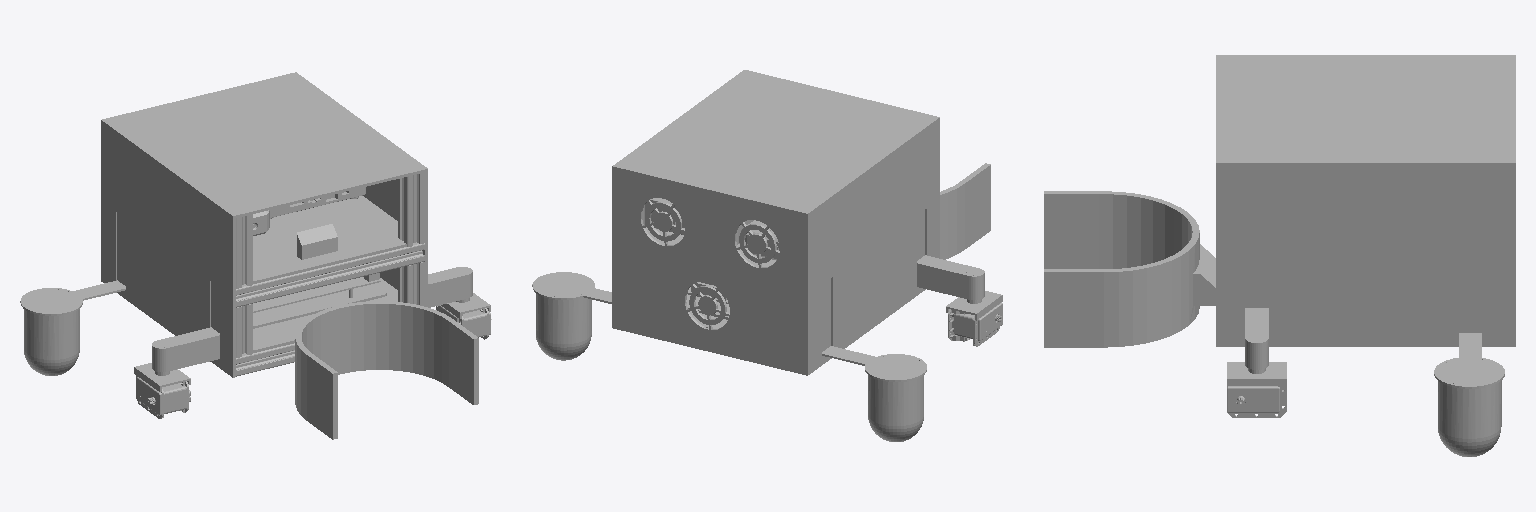
The robot description file, URDF, robot "4wheel_ball":
<?xml version="1.0" encoding="utf-8"?>
<!-- This URDF was automatically created by SolidWorks to URDF Exporter! Originally created by [author] ([email redacted]) 
     Commit Version: 1.5.1-0-g916b5db  Build Version: 1.5.7152.31018
     For more information, please see http://wiki.ros.org/sw_urdf_exporter -->
<robot
  name="4wheel_ball">
  <link
    name="base_link">
    <inertial>
      <origin
        xyz="0.00088514 0.09157 -0.015791"
        rpy="0 0 0" />
      <mass
        value="5.3249" />
      <inertia
        ixx="0.021938"
        ixy="-4.0175E-06"
        ixz="-1.4798E-06"
        iyy="0.023203"
        iyz="-8.0652E-06"
        izz="0.014905" />
    </inertial>
    <visual>
      <origin
        xyz="0 0 0"
        rpy="0 0 0" />
      <geometry>
        <mesh
          filename="package://4wheel_ball/meshes/base_link.STL" />
      </geometry>
      <material
        name="">
        <color
          rgba="0.75294 0.75294 0.75294 1" />
      </material>
    </visual>
    <collision>
      <origin
        xyz="0 0 0"
        rpy="0 0 0" />
      <geometry>
        <mesh
          filename="package://4wheel_ball/meshes/base_link.STL" />
      </geometry>
    </collision>
  </link>
  <link
    name="right_front_suspension">
    <inertial>
      <origin
        xyz="0.072447 -0.0024231 -0.066755"
        rpy="0 0 0" />
      <mass
        value="0.26437" />
      <inertia
        ixx="3.2075E-05"
        ixy="1.4412E-07"
        ixz="6.3085E-08"
        iyy="6.227E-05"
        iyz="-2.0189E-07"
        izz="6.2852E-05" />
    </inertial>
    <visual>
      <origin
        xyz="0 0 0"
        rpy="0 0 0" />
      <geometry>
        <mesh
          filename="package://4wheel_ball/meshes/right_front_suspension.STL" />
      </geometry>
      <material
        name="">
        <color
          rgba="0.75294 0.75294 0.75294 1" />
      </material>
    </visual>
    <collision>
      <origin
        xyz="0 0 0"
        rpy="0 0 0" />
      <geometry>
        <mesh
          filename="package://4wheel_ball/meshes/right_front_suspension.STL" />
      </geometry>
    </collision>
  </link>
  <joint
    name="right_front_suspension"
    type="fixed">
    <origin
      xyz="-0.21292 -0.11437 -0.037202"
      rpy="2.834 0 0" />
    <parent
      link="base_link" />
    <child
      link="right_front_suspension" />
    <axis
      xyz="0 0 0" />
    <limit
      lower="0"
      upper="0"
      effort="0"
      velocity="0" />
  </joint>
  <link
    name="right_front_wheel">
    <inertial>
      <origin
        xyz="0.014171 0 -1.3878E-17"
        rpy="0 0 0" />
      <mass
        value="0.23877" />
      <inertia
        ixx="0.00029907"
        ixy="-3.9522E-37"
        ixz="6.92E-37"
        iyy="0.00016737"
        iyz="-8.4703E-22"
        izz="0.00016737" />
    </inertial>
    <visual>
      <origin
        xyz="0 0 0"
        rpy="0 0 0" />
      <geometry>
        <mesh
          filename="package://4wheel_ball/meshes/right_front_wheel.STL" />
      </geometry>
      <material
        name="">
        <color
          rgba="1 1 1 1" />
      </material>
    </visual>
    <collision>
      <origin
        xyz="0 0 0"
        rpy="0 0 0" />
      <geometry>
        <mesh
          filename="package://4wheel_ball/meshes/right_front_wheel.STL" />
      </geometry>
    </collision>
  </link>
  <joint
    name="right_front_wheel"
    type="continuous">
    <origin
      xyz="0 0.00097405 -0.03369"
      rpy="-1.3077 0 0" />
    <parent
      link="right_front_suspension" />
    <child
      link="right_front_wheel" />
    <axis
      xyz="1 0 0" />
    <limit
      effort="3.1"
      velocity="7" />
  </joint>
  <link
    name="left_front_suspension">
    <inertial>
      <origin
        xyz="0.066688 0.0036428 -0.064837"
        rpy="0 0 0" />
      <mass
        value="0.26437" />
      <inertia
        ixx="3.2075E-05"
        ixy="-1.4412E-07"
        ixz="-6.3085E-08"
        iyy="6.227E-05"
        iyz="-2.0189E-07"
        izz="6.2852E-05" />
    </inertial>
    <visual>
      <origin
        xyz="0 0 0"
        rpy="0 0 0" />
      <geometry>
        <mesh
          filename="package://4wheel_ball/meshes/left_front_suspension.STL" />
      </geometry>
      <material
        name="">
        <color
          rgba="0.75294 0.75294 0.75294 1" />
      </material>
    </visual>
    <collision>
      <origin
        xyz="0 0 0"
        rpy="0 0 0" />
      <geometry>
        <mesh
          filename="package://4wheel_ball/meshes/left_front_suspension.STL" />
      </geometry>
    </collision>
  </link>
  <joint
    name="left_front_suspension"
    type="fixed">
    <origin
      xyz="0.20716 -0.075688 -0.037202"
      rpy="2.834 0 3.1416" />
    <parent
      link="base_link" />
    <child
      link="left_front_suspension" />
    <axis
      xyz="0 0 0" />
    <limit
      lower="0"
      upper="0"
      effort="0"
      velocity="0" />
  </joint>
  <link
    name="left_front_wheel">
    <inertial>
      <origin
        xyz="-0.008411 -1.3878E-17 0"
        rpy="0 0 0" />
      <mass
        value="0.23877" />
      <inertia
        ixx="0.00029907"
        ixy="3.5444E-22"
        ixz="-1.8433E-21"
        iyy="0.00016737"
        iyz="6.7763E-21"
        izz="0.00016737" />
    </inertial>
    <visual>
      <origin
        xyz="0 0 0"
        rpy="0 0 0" />
      <geometry>
        <mesh
          filename="package://4wheel_ball/meshes/left_front_wheel.STL" />
      </geometry>
      <material
        name="">
        <color
          rgba="1 1 1 1" />
      </material>
    </visual>
    <collision>
      <origin
        xyz="0 0 0"
        rpy="0 0 0" />
      <geometry>
        <mesh
          filename="package://4wheel_ball/meshes/left_front_wheel.STL" />
      </geometry>
    </collision>
  </link>
  <joint
    name="left_front_wheel"
    type="continuous">
    <origin
      xyz="0 -0.018219 -0.039786"
      rpy="-0.026787 0 3.1416" />
    <parent
      link="left_front_suspension" />
    <child
      link="left_front_wheel" />
    <axis
      xyz="1 0 0" />
    <limit
      effort="3.1"
      velocity="7" />
  </joint>
  <link
    name="right_back_suspension">
    <inertial>
      <origin
        xyz="-0.0067868 0.01067 0.059195"
        rpy="0 0 0" />
      <mass
        value="0.11411" />
      <inertia
        ixx="7.8941E-05"
        ixy="5.5541E-22"
        ixz="1.1472E-06"
        iyy="5.1512E-05"
        iyz="5.8796E-21"
        izz="7.839E-05" />
    </inertial>
    <visual>
      <origin
        xyz="0 0 0"
        rpy="0 0 0" />
      <geometry>
        <mesh
          filename="package://4wheel_ball/meshes/right_back_suspension.STL" />
      </geometry>
      <material
        name="">
        <color
          rgba="0.75294 0.75294 0.75294 1" />
      </material>
    </visual>
    <collision>
      <origin
        xyz="0 0 0"
        rpy="0 0 0" />
      <geometry>
        <mesh
          filename="package://4wheel_ball/meshes/right_back_suspension.STL" />
      </geometry>
    </collision>
  </link>
  <joint
    name="right_back_suspension"
    type="fixed">
    <origin
      xyz="-0.23339 0.12116 0"
      rpy="-1.5708 0 -2.2503" />
    <parent
      link="base_link" />
    <child
      link="right_back_suspension" />
    <axis
      xyz="0 0 0" />
    <limit
      lower="0"
      upper="0"
      effort="0"
      velocity="0" />
  </joint>
  <link
    name="left_back_suspension">
    <inertial>
      <origin
        xyz="-0.0067868 0.01067 0.059195"
        rpy="0 0 0" />
      <mass
        value="0.11411" />
      <inertia
        ixx="7.8941E-05"
        ixy="1.7655E-21"
        ixz="1.1472E-06"
        iyy="5.1512E-05"
        iyz="3.4904E-21"
        izz="7.839E-05" />
    </inertial>
    <visual>
      <origin
        xyz="0 0 0"
        rpy="0 0 0" />
      <geometry>
        <mesh
          filename="package://4wheel_ball/meshes/left_back_suspension.STL" />
      </geometry>
      <material
        name="">
        <color
          rgba="0.75294 0.75294 0.75294 1" />
      </material>
    </visual>
    <collision>
      <origin
        xyz="0 0 0"
        rpy="0 0 0" />
      <geometry>
        <mesh
          filename="package://4wheel_ball/meshes/left_back_suspension.STL" />
      </geometry>
    </collision>
  </link>
  <joint
    name="left_back_suspension"
    type="fixed">
    <origin
      xyz="0.23339 0.055845 0"
      rpy="-1.5708 0 0.89134" />
    <parent
      link="base_link" />
    <child
      link="left_back_suspension" />
    <axis
      xyz="0 0 0" />
    <limit
      lower="0"
      upper="0"
      effort="0"
      velocity="0" />
  </joint>
  <link
    name="cam1">
    <inertial>
      <origin
        xyz="0.049836 0.061784 0.068723"
        rpy="0 0 0" />
      <mass
        value="0.043612" />
      <inertia
        ixx="4.2948E-06"
        ixy="-8.8548E-10"
        ixz="-1.0183E-09"
        iyy="2.2106E-05"
        iyz="2.1758E-08"
        izz="2.3571E-05" />
    </inertial>
    <visual>
      <origin
        xyz="0 0 0"
        rpy="0 0 0" />
      <geometry>
        <mesh
          filename="package://4wheel_ball/meshes/cam1.STL" />
      </geometry>
      <material
        name="">
        <color
          rgba="0.79216 0.81961 0.93333 1" />
      </material>
    </visual>
    <collision>
      <origin
        xyz="0 0 0"
        rpy="0 0 0" />
      <geometry>
        <mesh
          filename="package://4wheel_ball/meshes/cam1.STL" />
      </geometry>
    </collision>
  </link>
  <joint
    name="cam1"
    type="fixed">
    <origin
      xyz="-0.049835 -0.022219 0.13322"
      rpy="2.3562 0 0" />
    <parent
      link="base_link" />
    <child
      link="cam1" />
    <axis
      xyz="0 0 0" />
  </joint>
  <link
    name="cam2">
    <inertial>
      <origin
        xyz="0.049836 0.061784 0.068723"
        rpy="0 0 0" />
      <mass
        value="0.043612" />
      <inertia
        ixx="4.2948E-06"
        ixy="-8.8579E-10"
        ixz="-1.0181E-09"
        iyy="2.2106E-05"
        iyz="2.1758E-08"
        izz="2.3571E-05" />
    </inertial>
    <visual>
      <origin
        xyz="0 0 0"
        rpy="0 0 0" />
      <geometry>
        <mesh
          filename="package://4wheel_ball/meshes/cam2.STL" />
      </geometry>
      <material
        name="">
        <color
          rgba="0.79216 0.81961 0.93333 1" />
      </material>
    </visual>
    <collision>
      <origin
        xyz="0 0 0"
        rpy="0 0 0" />
      <geometry>
        <mesh
          filename="package://4wheel_ball/meshes/cam2.STL" />
      </geometry>
    </collision>
  </link>
  <joint
    name="cam2"
    type="fixed">
    <origin
      xyz="-0.049839 -0.046422 0.10251"
      rpy="1.5708 0 0" />
    <parent
      link="base_link" />
    <child
      link="cam2" />
    <axis
      xyz="0 0 0" />
    <limit
      lower="0"
      upper="0"
      effort="0"
      velocity="0" />
  </joint>
  <link
    name="lidar">
    <inertial>
      <origin
        xyz="0 0 0"
        rpy="0 0 0" />
      <mass
        value="0" />
      <inertia
        ixx="0"
        ixy="0"
        ixz="0"
        iyy="0"
        iyz="0"
        izz="0" />
    </inertial>
    <visual>
      <origin
        xyz="0 0 0"
        rpy="0 0 0" />
      <geometry>
        <mesh
          filename="package://4wheel_ball/meshes/lidar.STL" />
      </geometry>
      <material
        name="">
        <color
          rgba="1 1 1 1" />
      </material>
    </visual>
    <collision>
      <origin
        xyz="0 0 0"
        rpy="0 0 0" />
      <geometry>
        <mesh
          filename="package://4wheel_ball/meshes/lidar.STL" />
      </geometry>
    </collision>
  </link>
  <joint
    name="lidar"
    type="fixed">
    <origin
      xyz="0.13292 -0.027939 -0.53869"
      rpy="-1.5708 0 -1.5708" />
    <parent
      link="base_link" />
    <child
      link="lidar" />
    <axis
      xyz="0 0 0" />
    <limit
      lower="0"
      upper="0"
      effort="0"
      velocity="0" />
  </joint>
</robot>

--- Facts derived from the render (not from the file) ---
The picture shows the robot from 3 angles, left to right: view 1: azimuth 30°, elevation 25°; view 2: azimuth 150°, elevation 25°; view 3: azimuth 270°, elevation 25°; orthographic projection.
Robot: 4wheel_ball — 10 links, 9 joints (2 continuous, 7 fixed); root link base_link; default pose: every joint at zero.
Links seen in each view (by area): view 1: base_link, right_back_suspension, right_front_suspension, left_front_suspension; view 2: base_link, right_back_suspension, left_back_suspension, right_front_suspension; view 3: base_link, left_back_suspension, left_front_suspension.
Boxes of the visible links, bbox=[...] form: base_link: bbox=[101, 72, 478, 439]; right_back_suspension: bbox=[20, 280, 125, 375]; right_front_suspension: bbox=[134, 327, 219, 418]; left_front_suspension: bbox=[428, 267, 491, 339]; base_link: bbox=[612, 70, 990, 375]; right_back_suspension: bbox=[822, 346, 926, 441]; left_back_suspension: bbox=[532, 272, 611, 360]; right_front_suspension: bbox=[917, 255, 1002, 346]; base_link: bbox=[1044, 55, 1515, 347]; left_back_suspension: bbox=[1434, 333, 1504, 456]; left_front_suspension: bbox=[1227, 308, 1286, 417].
Bounding box of the posed robot: 0.4279 × 0.3973 × 0.2358 m (x, y, z).
Meshes: 10 distinct files referenced, 5 mesh visuals loaded (5 binary STL); not drawn: 5 (reference not matched to a file when rendering).